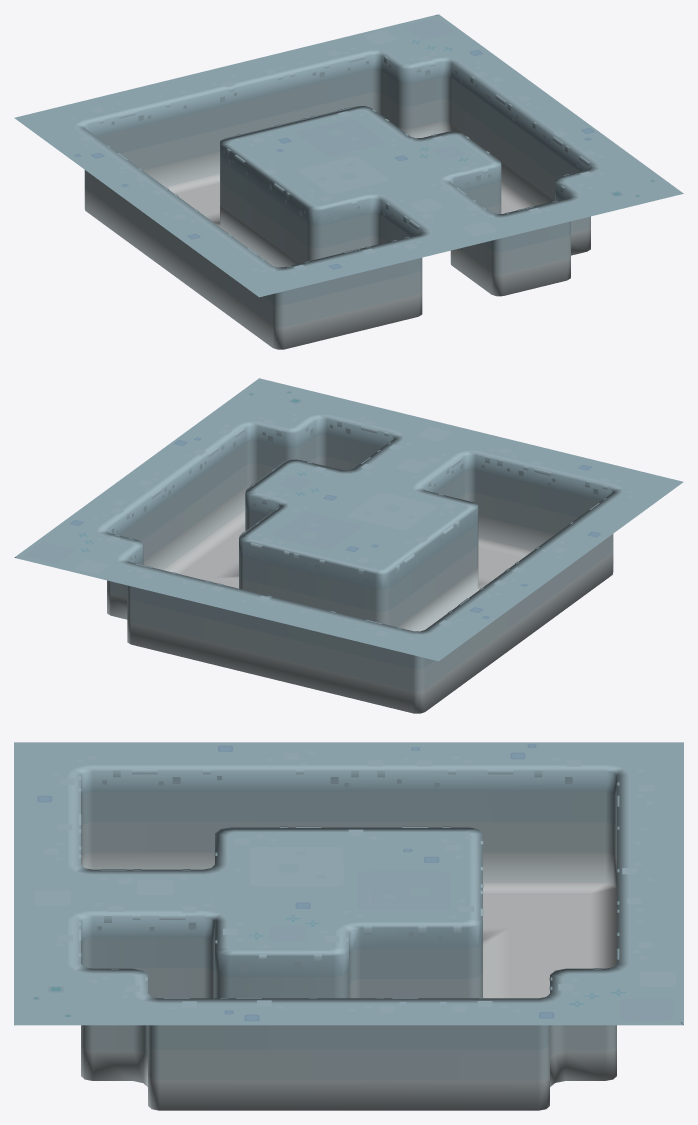
Rendered from C_mountain2_08.fbx.
The picture shows the model from 3 angles, top to bottom: view 1: azimuth 30°, elevation 25°; view 2: azimuth 150°, elevation 25°; view 3: azimuth 270°, elevation 25°; orthographic projection. The views are drawn at different scales.
Parts seen in each view (by area): view 1: C_mountain2_08; view 2: C_mountain2_08; view 3: C_mountain2_08.
Part boxes in pixels (<box>): C_mountain2_08: <box>14,14,683,349</box>; C_mountain2_08: <box>14,378,683,713</box>; C_mountain2_08: <box>14,742,683,1110</box>.
Bounding box in the file's own units: 50 × 9.38 × 50.
